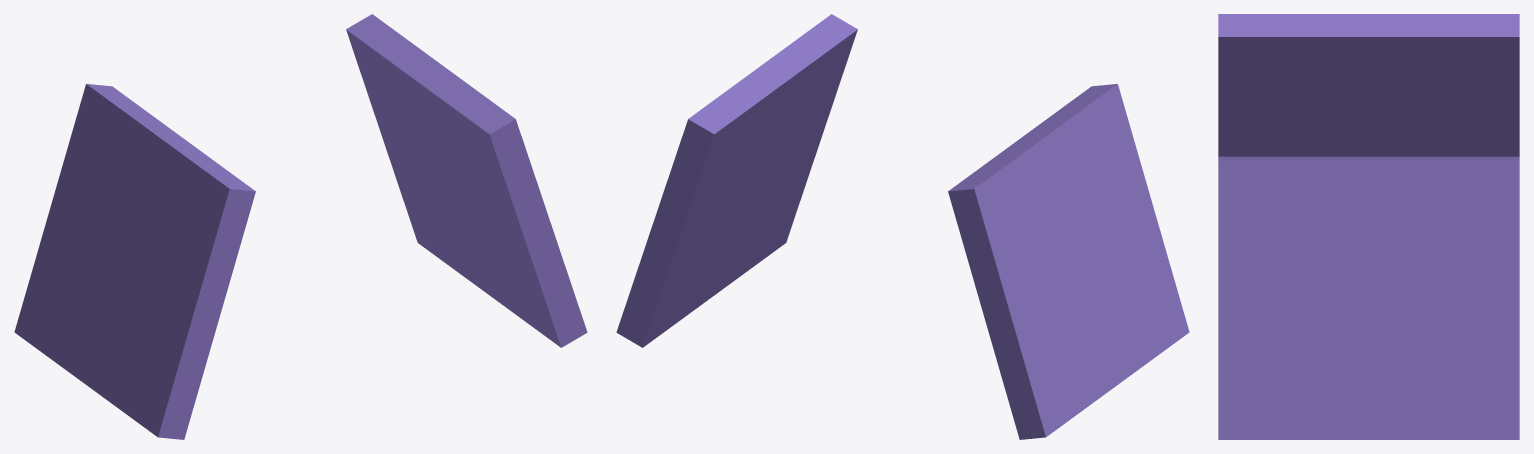
File: maneuver.glb
3 renders of one model, left to right at view 1: azimuth 30°, elevation 25°; view 2: azimuth 150°, elevation 25°; view 3: azimuth 270°, elevation 25°, orthographic. The views are drawn at different scales.
Visible parts, largest first — view 1: _MeshInstance3D_195, _MeshInstance3D_196; view 2: _MeshInstance3D_195, _MeshInstance3D_196; view 3: _MeshInstance3D_196, _MeshInstance3D_195.
Boxes of the visible parts, box(x1,y1,x2,y2) form: _MeshInstance3D_195: box(14, 84, 255, 439); _MeshInstance3D_196: box(346, 14, 587, 347); _MeshInstance3D_195: box(948, 84, 1189, 439); _MeshInstance3D_196: box(616, 14, 857, 347); _MeshInstance3D_196: box(1218, 156, 1519, 439); _MeshInstance3D_195: box(1218, 14, 1519, 156).
Bounding box in the file's own units: 0.7773 × 0.4149 × 0.45.
